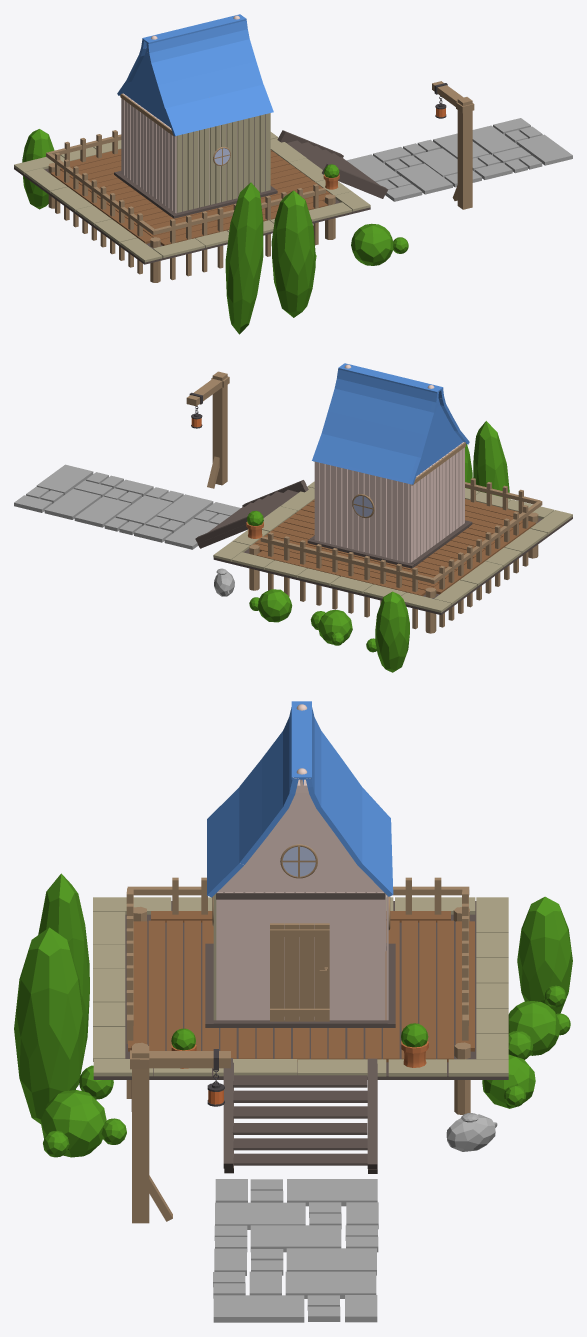
File: cottage.glb
The picture shows the model from 3 angles, top to bottom: view 1: azimuth 30°, elevation 25°; view 2: azimuth 150°, elevation 25°; view 3: azimuth 270°, elevation 25°; orthographic projection. The views are drawn at different scales.
Parts seen in each view (by area): view 1: Cube.078, Cube.082, Icosphere.018, Cube.083, Icosphere.020, Cylinder.008, Cube.056, Cube.047, Icosphere.013, Icosphere.005, Cube.124, Cube.101 (+28 smaller); view 2: Cube.078, Cube.081, Cube.083, Icosphere.005, Cube.053, Cube.056, Icosphere.020, Cylinder.008, Cube, Cube.054, Cube.033, Cube.123 (+34 smaller); view 3: Cube.078, Cube.080, Icosphere.018, Cube.087, Cube, Cylinder.008, Icosphere.005, Cube.077, Icosphere.020, Icosphere.013, Cube.124, Cube.035 (+57 smaller).
Part boxes in pixels (left/top/right/bottom): Cube.078: left=117, top=20, right=273, bottom=136; Cube.082: left=176, top=113, right=270, bottom=212; Icosphere.018: left=271, top=190, right=315, bottom=317; Cube.083: left=121, top=93, right=176, bottom=213; Icosphere.020: left=225, top=182, right=263, bottom=334; Cylinder.008: left=432, top=81, right=474, bottom=209; Cube.056: left=55, top=152, right=142, bottom=274; Cube.047: left=170, top=184, right=318, bottom=280; Icosphere.013: left=351, top=223, right=393, bottom=265; Icosphere.005: left=22, top=129, right=54, bottom=209; Cube.124: left=516, top=134, right=572, bottom=165; Cube.101: left=396, top=163, right=452, bottom=194; Cube.078: left=312, top=369, right=469, bottom=484; Cube.081: left=314, top=461, right=409, bottom=562; Cube.083: left=409, top=442, right=464, bottom=562; Icosphere.005: left=375, top=591, right=409, bottom=672; Cube.053: left=268, top=532, right=417, bottom=629; Cube.056: left=439, top=505, right=528, bottom=627; Icosphere.020: left=473, top=421, right=509, bottom=498; Cylinder.008: left=186, top=371, right=229, bottom=484; Cube: left=213, top=517, right=572, bottom=614; Cube.054: left=260, top=536, right=433, bottom=582; Cube.033: left=256, top=550, right=425, bottom=596; Cube.123: left=44, top=489, right=101, bottom=519; Cube.078: left=207, top=707, right=393, bottom=897; Cube.080: left=216, top=892, right=385, bottom=1020; Icosphere.018: left=14, top=927, right=84, bottom=1123; Cube.087: left=270, top=923, right=329, bottom=1021; Cube: left=93, top=901, right=508, bottom=1079; Cylinder.008: left=130, top=1046, right=230, bottom=1223; Icosphere.005: left=517, top=896, right=572, bottom=1013; Cube.077: left=218, top=891, right=383, bottom=1020; Icosphere.020: left=38, top=873, right=89, bottom=1087; Icosphere.013: left=40, top=1090, right=106, bottom=1157; Cube.124: left=213, top=1295, right=304, bottom=1322; Cube.035: left=437, top=920, right=453, bottom=1062.
Size of the model in its own units: 17.68 by 8.93 by 11.55.
